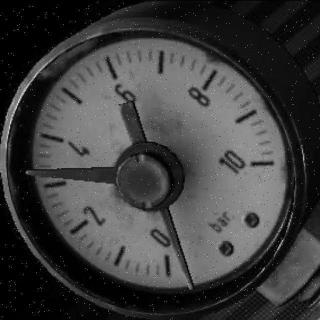gauge: (4, 20, 308, 312), (115, 152, 174, 208), (173, 259, 209, 294), (237, 150, 273, 180), (181, 276, 198, 294), (20, 165, 38, 181)
